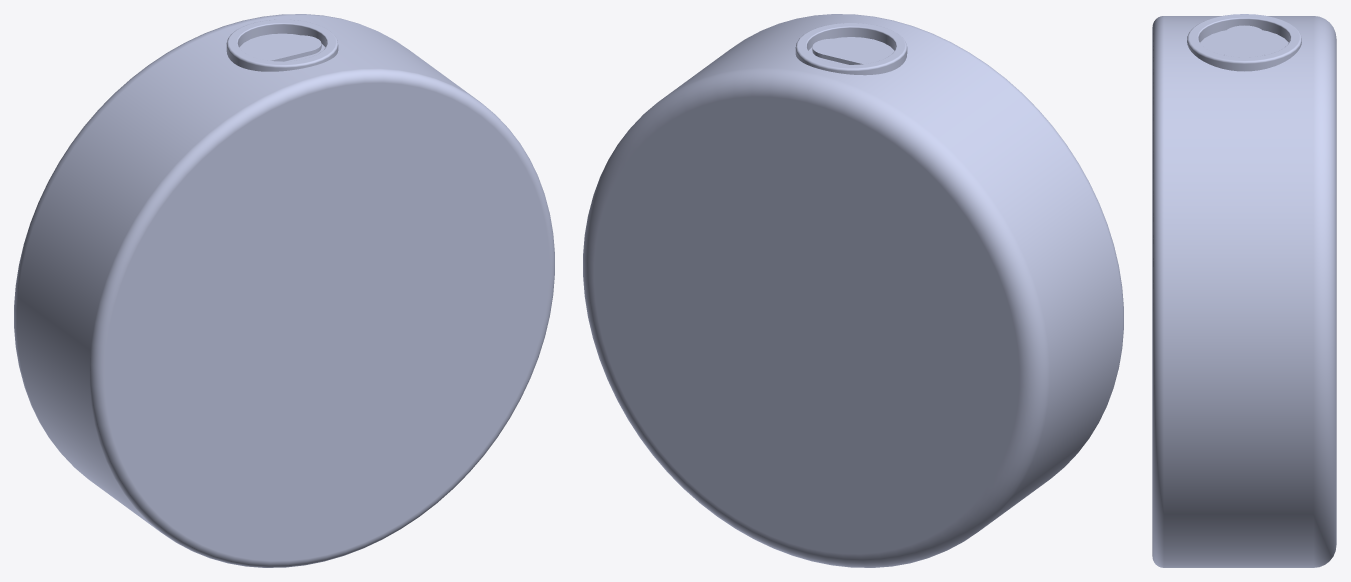
3 views of the same model, side by side, from view 1: azimuth 30°, elevation 25°; view 2: azimuth 150°, elevation 25°; view 3: azimuth 270°, elevation 25° (orthographic). The views are drawn at different scales.
Parts seen in each view (by area): view 1: 3DGeom~17; view 2: 3DGeom~17; view 3: 3DGeom~17.
Part boxes in pixels (bbox=[...]): 3DGeom~17: bbox=[14, 14, 554, 567]; 3DGeom~17: bbox=[583, 14, 1123, 567]; 3DGeom~17: bbox=[1152, 14, 1336, 567].
Size of the model in its own units: 0.8918 by 0.2975 by 0.9.
